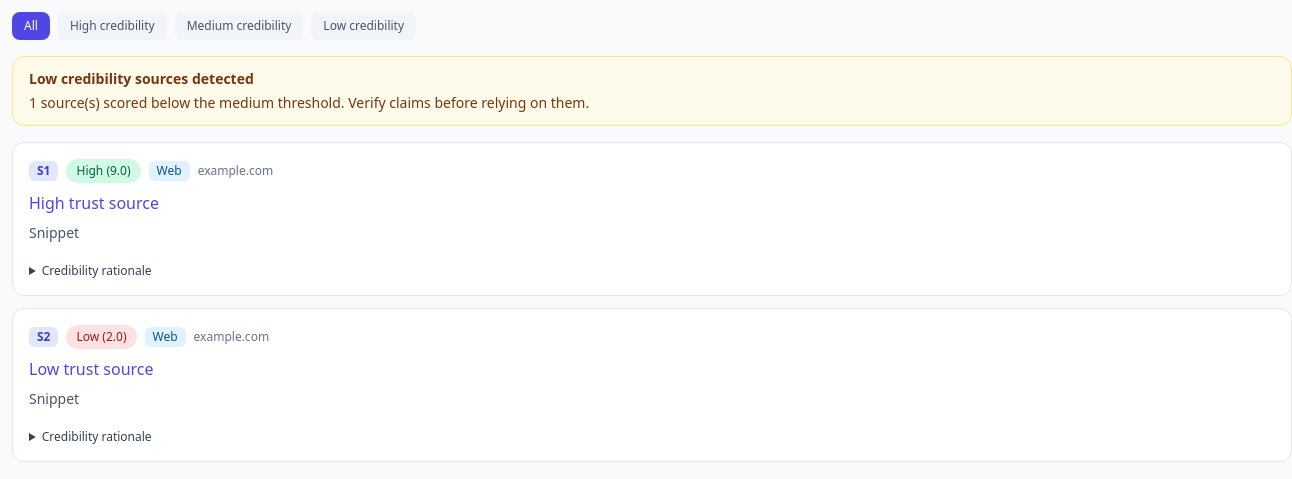
SourcesPanel credibility › filters to high credibility only
The image size is (1292, 479).
Click the button "High credibility": (112,26) [58,12,167,40]
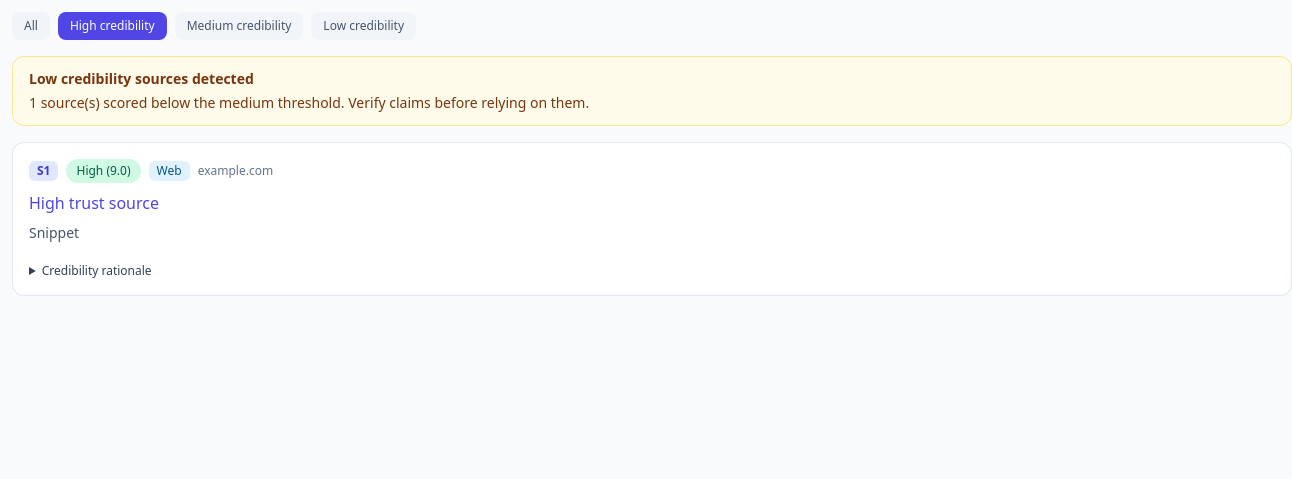
Expected: the link "High trust source" is shown, [29,192,159,214]
Now the link "Low trust source" is gone
